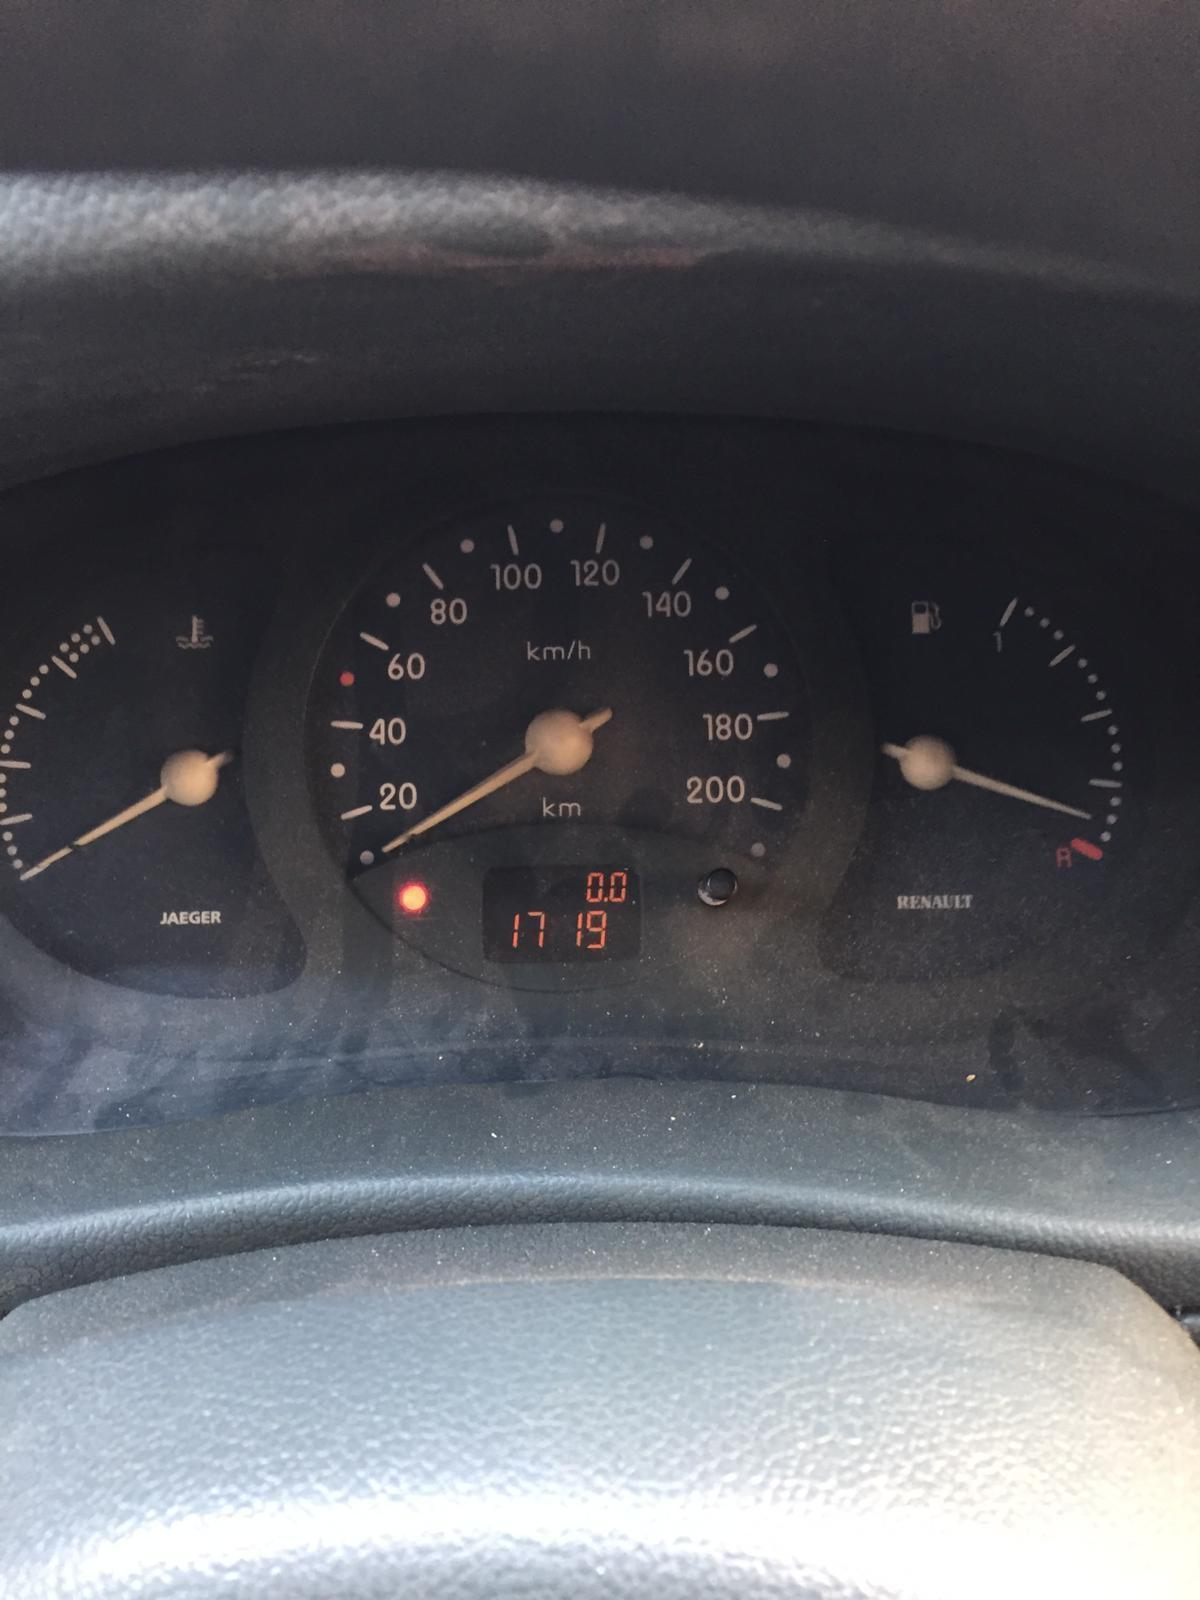,: (603, 896, 608, 903)
0: (608, 871, 626, 902), (586, 871, 604, 902)
1: (575, 911, 584, 947), (512, 912, 519, 949)
7: (526, 911, 545, 947)
9: (585, 910, 606, 947)
odometer: (479, 860, 645, 965)
